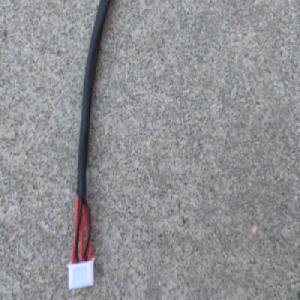Wire: (66, 0, 115, 293)
